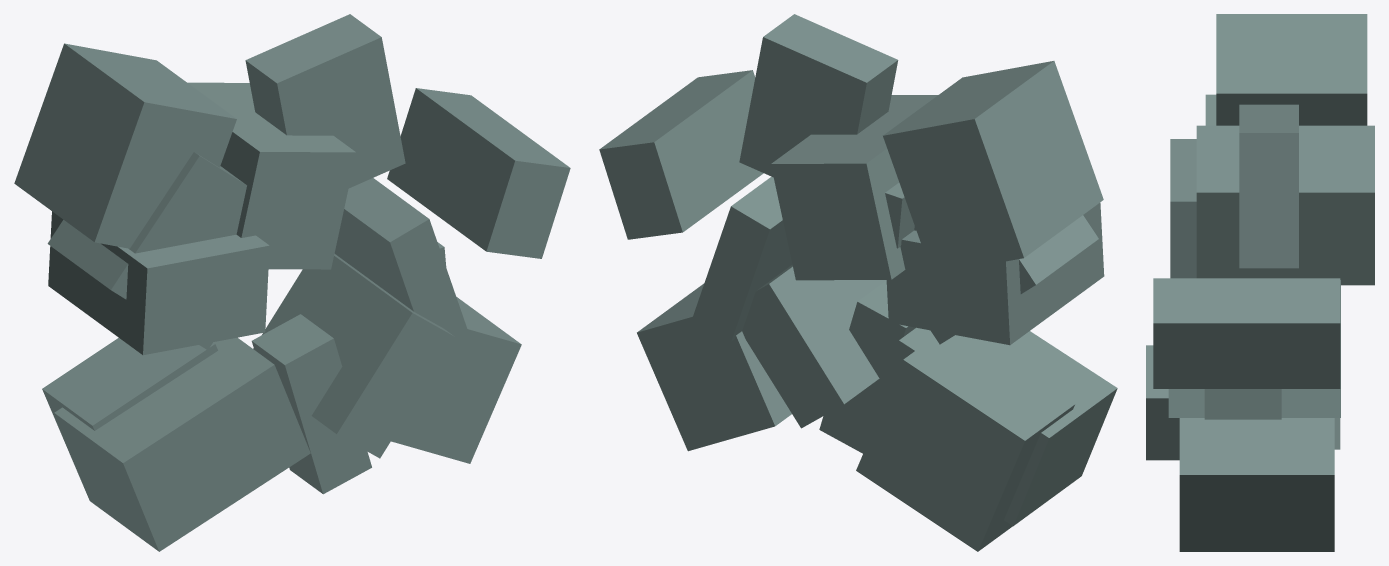
The model's file is 25_Rubble_And_Ancient_Debris.glb.
The picture shows the model from 3 angles, left to right: view 1: azimuth 30°, elevation 25°; view 2: azimuth 150°, elevation 25°; view 3: azimuth 270°, elevation 25°; orthographic projection. The views are drawn at different scales.
Parts seen in each view (by area): view 1: 25_Rubble_And_Ancient_Debris_13, 25_Rubble_And_Ancient_Debris_12, 25_Rubble_And_Ancient_Debris_10, 25_Rubble_And_Ancient_Debris_05, 25_Rubble_And_Ancient_Debris_01, 25_Rubble_And_Ancient_Debris_03, 25_Rubble_And_Ancient_Debris_02, 25_Rubble_And_Ancient_Debris_06, 25_Rubble_And_Ancient_Debris_11, 25_Rubble_And_Ancient_Debris_00, 25_Rubble_And_Ancient_Debris_08, 25_Rubble_And_Ancient_Debris_09; view 2: 25_Rubble_And_Ancient_Debris_12, 25_Rubble_And_Ancient_Debris_09, 25_Rubble_And_Ancient_Debris_10, 25_Rubble_And_Ancient_Debris_02, 25_Rubble_And_Ancient_Debris_03, 25_Rubble_And_Ancient_Debris_01, 25_Rubble_And_Ancient_Debris_05, 25_Rubble_And_Ancient_Debris_11, 25_Rubble_And_Ancient_Debris_13, 25_Rubble_And_Ancient_Debris_06, 25_Rubble_And_Ancient_Debris_08, 25_Rubble_And_Ancient_Debris_00 (+1 smaller); view 3: 25_Rubble_And_Ancient_Debris_10, 25_Rubble_And_Ancient_Debris_11, 25_Rubble_And_Ancient_Debris_02, 25_Rubble_And_Ancient_Debris_12, 25_Rubble_And_Ancient_Debris_03, 25_Rubble_And_Ancient_Debris_05, 25_Rubble_And_Ancient_Debris_06, 25_Rubble_And_Ancient_Debris_01, 25_Rubble_And_Ancient_Debris_04, 25_Rubble_And_Ancient_Debris_00.
Boxes of the visible parts, x1,y1,x2,y2 form: 25_Rubble_And_Ancient_Debris_13: (54, 337, 310, 551); 25_Rubble_And_Ancient_Debris_12: (14, 43, 236, 248); 25_Rubble_And_Ancient_Debris_10: (387, 88, 570, 258); 25_Rubble_And_Ancient_Debris_05: (48, 211, 269, 355); 25_Rubble_And_Ancient_Debris_01: (253, 253, 455, 458); 25_Rubble_And_Ancient_Debris_03: (245, 14, 405, 188); 25_Rubble_And_Ancient_Debris_02: (187, 82, 356, 269); 25_Rubble_And_Ancient_Debris_06: (334, 178, 468, 339); 25_Rubble_And_Ancient_Debris_11: (391, 297, 521, 463); 25_Rubble_And_Ancient_Debris_00: (47, 152, 246, 349); 25_Rubble_And_Ancient_Debris_08: (251, 314, 371, 494); 25_Rubble_And_Ancient_Debris_09: (42, 338, 217, 500); 25_Rubble_And_Ancient_Debris_12: (883, 61, 1103, 274); 25_Rubble_And_Ancient_Debris_09: (856, 335, 1074, 551); 25_Rubble_And_Ancient_Debris_10: (599, 70, 763, 239); 25_Rubble_And_Ancient_Debris_02: (771, 95, 937, 280); 25_Rubble_And_Ancient_Debris_03: (739, 14, 898, 177); 25_Rubble_And_Ancient_Debris_01: (742, 264, 886, 428); 25_Rubble_And_Ancient_Debris_05: (886, 203, 1104, 345); 25_Rubble_And_Ancient_Debris_11: (637, 283, 791, 451); 25_Rubble_And_Ancient_Debris_13: (863, 327, 1117, 526); 25_Rubble_And_Ancient_Debris_06: (692, 176, 792, 341); 25_Rubble_And_Ancient_Debris_08: (819, 280, 915, 453); 25_Rubble_And_Ancient_Debris_00: (914, 215, 1098, 344); 25_Rubble_And_Ancient_Debris_10: (1153, 278, 1340, 388); 25_Rubble_And_Ancient_Debris_11: (1179, 418, 1334, 551); 25_Rubble_And_Ancient_Debris_02: (1196, 125, 1374, 285); 25_Rubble_And_Ancient_Debris_12: (1216, 14, 1367, 125); 25_Rubble_And_Ancient_Debris_03: (1239, 104, 1298, 268); 25_Rubble_And_Ancient_Debris_05: (1170, 139, 1196, 278); 25_Rubble_And_Ancient_Debris_06: (1168, 280, 1340, 417); 25_Rubble_And_Ancient_Debris_01: (1146, 345, 1179, 460); 25_Rubble_And_Ancient_Debris_04: (1204, 389, 1281, 419); 25_Rubble_And_Ancient_Debris_00: (1205, 94, 1216, 125).
Size of the model in its own units: 3.27 by 3.17 by 1.56.
